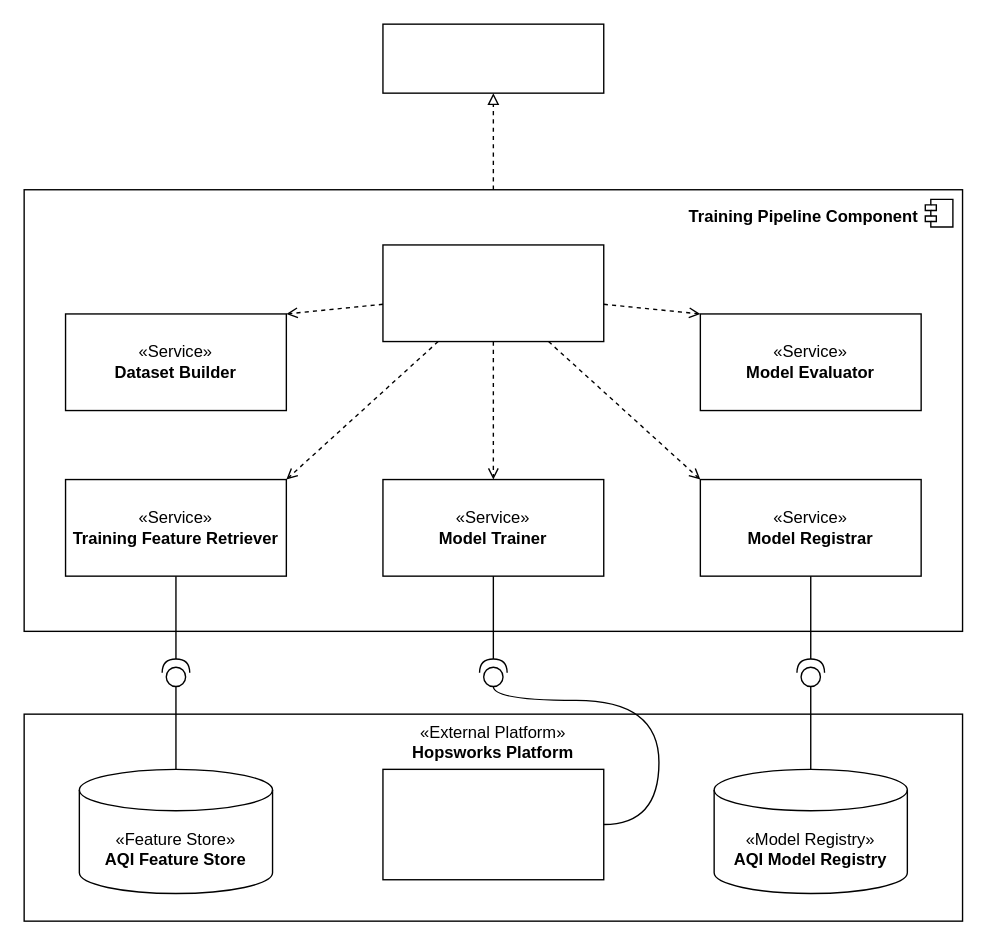
The diagram is 987 pixels wide and 945 high, and some of its shapes have lost their labels. Each missing label, with the centre of its shape:
"«Controller» Pipeline Orchestrator" goes at [493,293].
"«External Service» MLflow Tracking Server" goes at [493,824].
"«interface» Training Interface" goes at [493,58].
